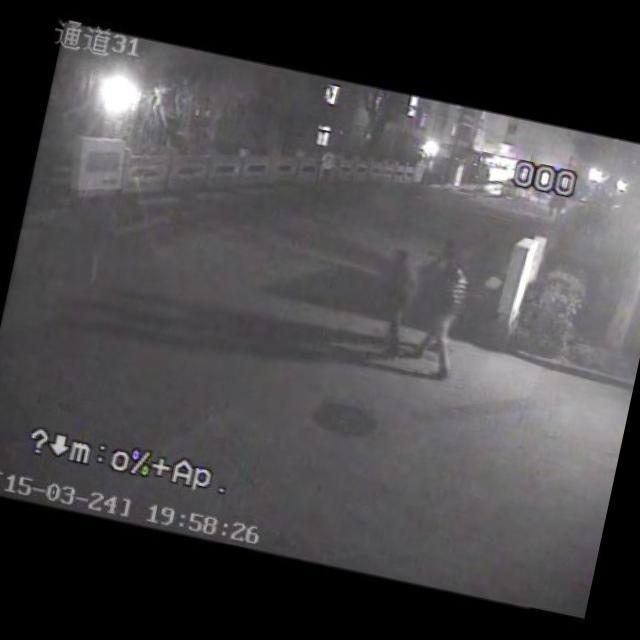person: (401, 253, 473, 373), (366, 236, 431, 354), (432, 238, 471, 270)
